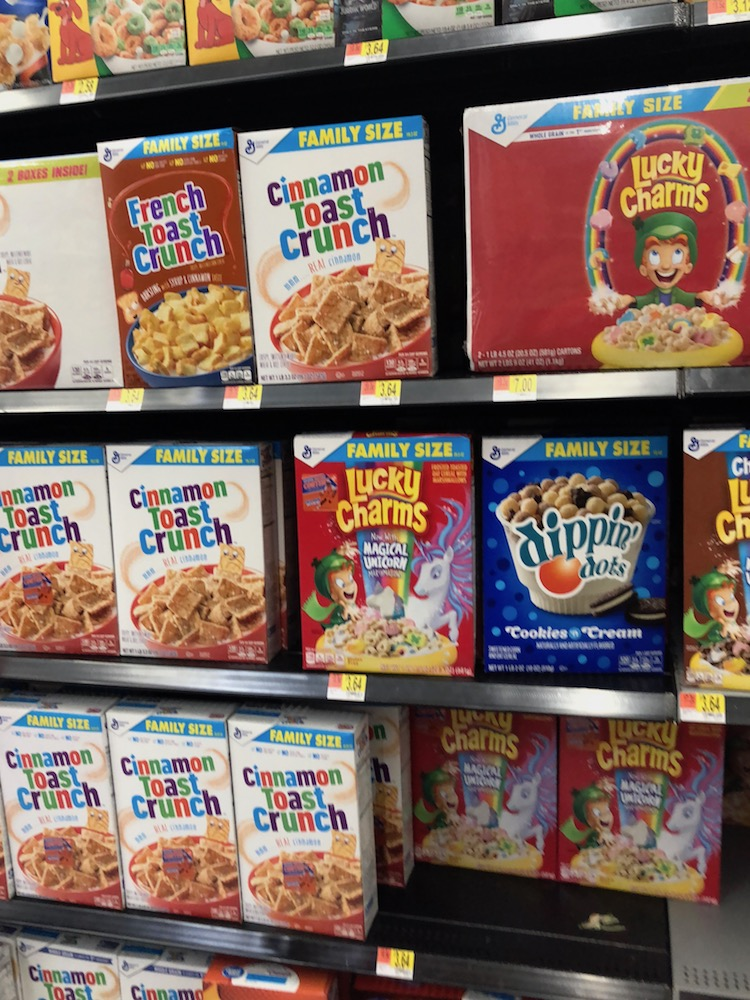Dippin Dots Cookies & Cream -568929378: (486, 442, 673, 681)
